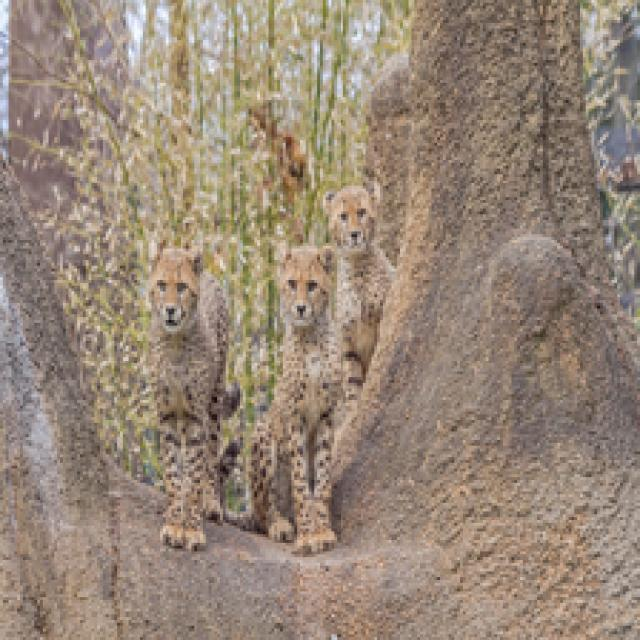cheetah: (133, 231, 242, 568), (266, 237, 362, 511), (325, 166, 420, 361)
